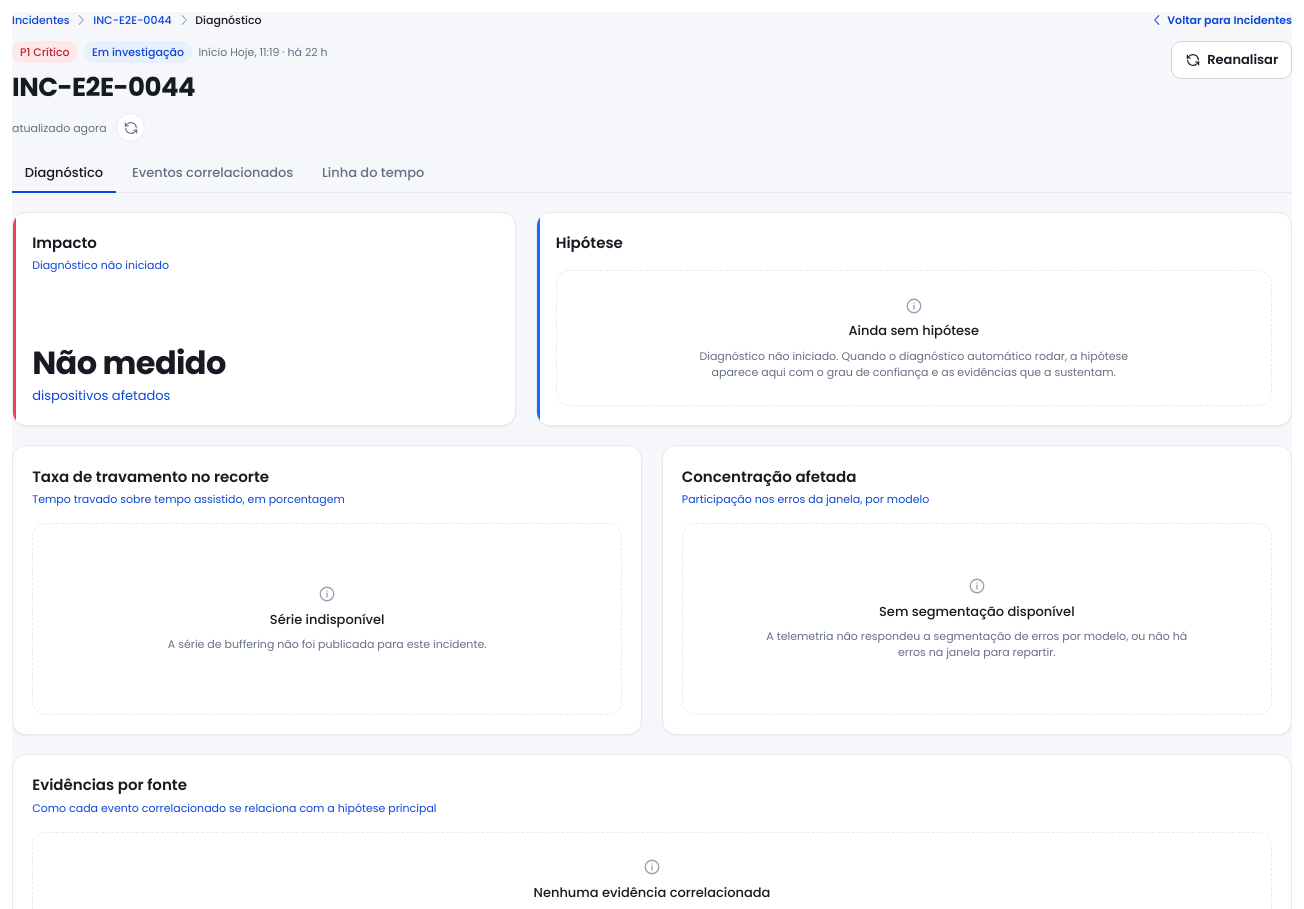
Test: diagnóstico do incidente › mostra a trilha com a aba e pede a reanálise
Expected: the link "Voltar para Incidentes" is shown, [1150,12,1292,28]
Click the button "Reanalisar". click: (1232, 60)
box: [1171,41,1292,79]
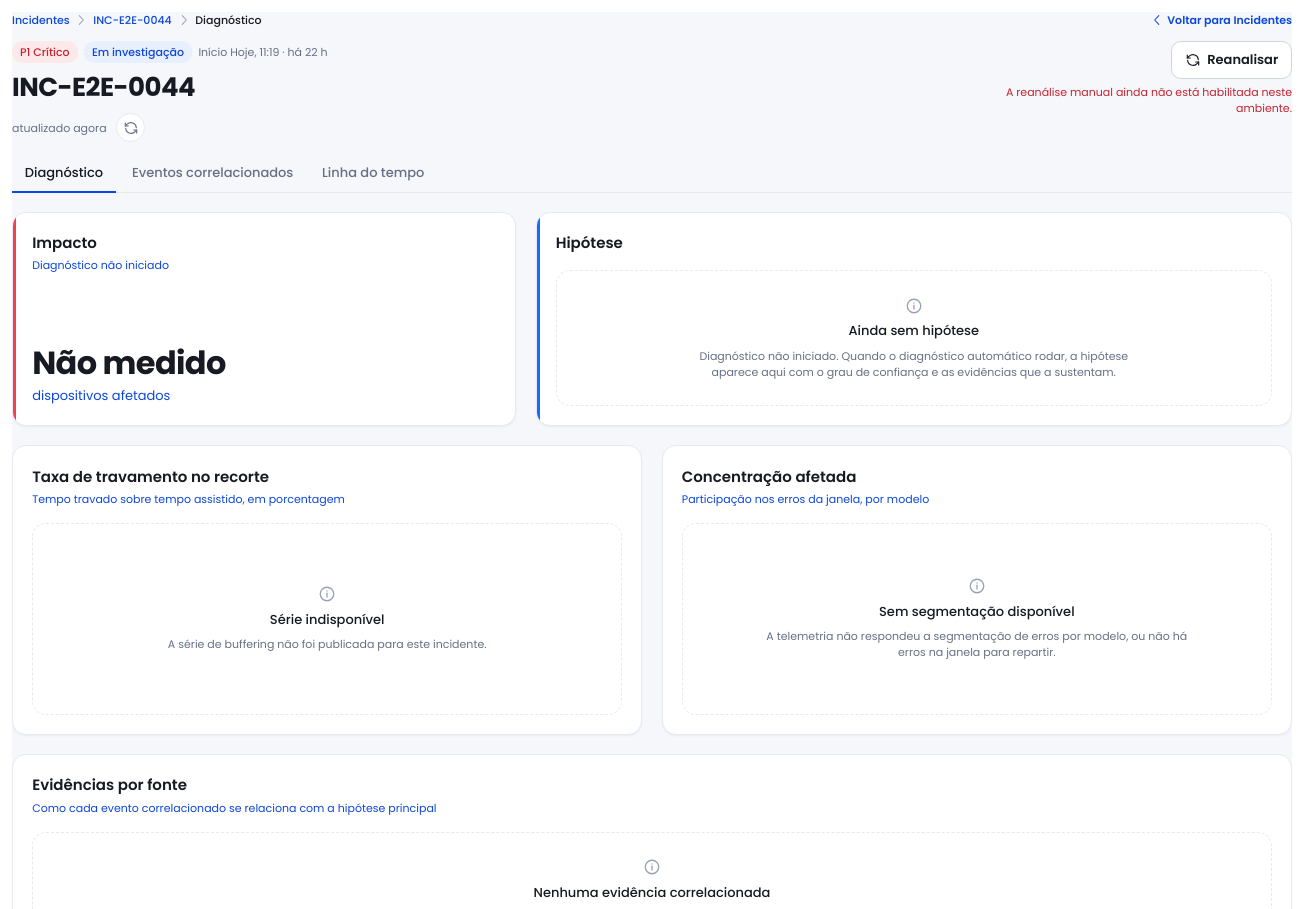
Now the message "A reanálise manual ainda não está habilitada neste ambiente." is shown, box [972,84,1292,116]
